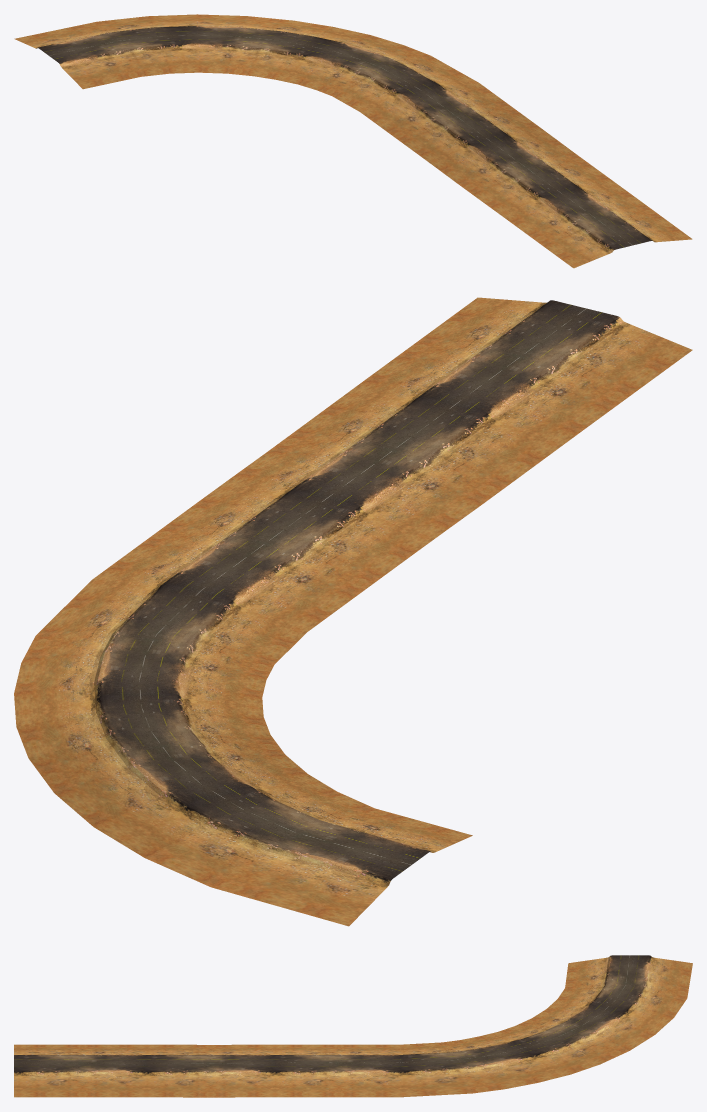
The model's file is Roadstright_bend.FBX.
The picture shows the model from 3 angles, top to bottom: view 1: azimuth 30°, elevation 25°; view 2: azimuth 150°, elevation 25°; view 3: azimuth 270°, elevation 25°; orthographic projection. The views are drawn at different scales.
Parts seen in each view (by area): view 1: road038; view 2: road038; view 3: road038.
Part boxes in pixels (left/top/right/bottom): road038: left=14, top=14, right=692, bottom=268; road038: left=14, top=297, right=692, bottom=926; road038: left=14, top=955, right=692, bottom=1097.
Bounding box in the file's own units: 1758 × 49.71 × 3761.
